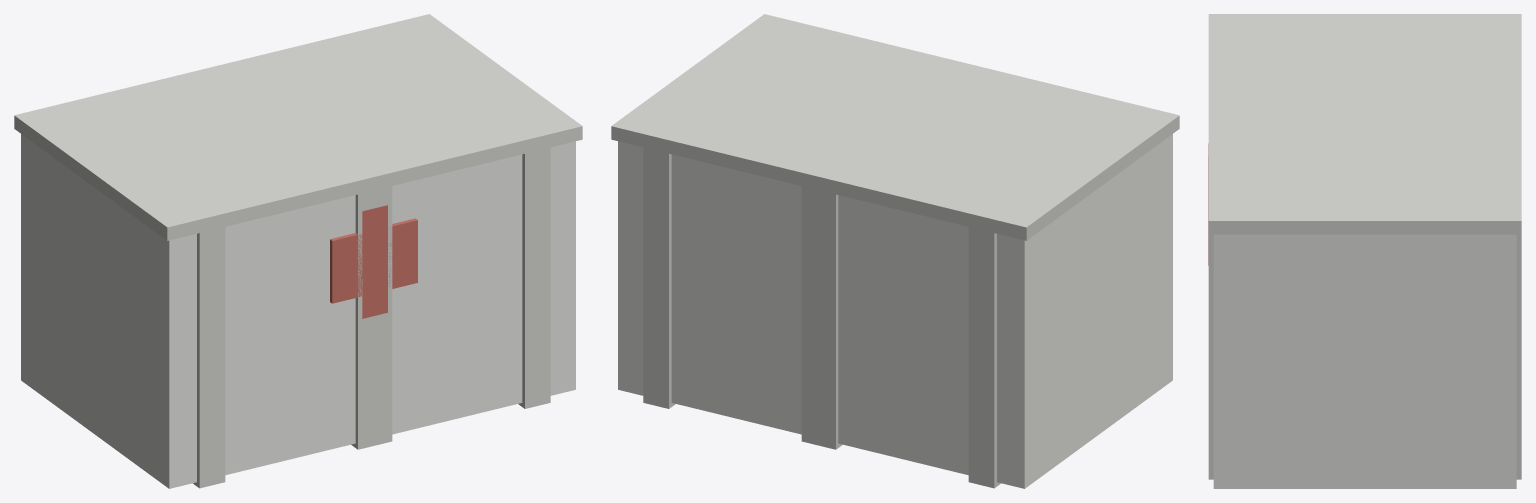
File: loot_crate_medical.glb
3 views of the same model, side by side, from view 1: azimuth 30°, elevation 25°; view 2: azimuth 150°, elevation 25°; view 3: azimuth 270°, elevation 25° (orthographic). The views are drawn at different scales.
Parts seen in each view (by area): view 1: loot_crate_medical; view 2: loot_crate_medical; view 3: loot_crate_medical.
Part boxes in pixels (bbox=[...]): loot_crate_medical: bbox=[14, 14, 582, 488]; loot_crate_medical: bbox=[611, 14, 1179, 488]; loot_crate_medical: bbox=[1208, 14, 1521, 488].
Size of the model in its own units: 0.97 by 0.6 by 0.6205.
